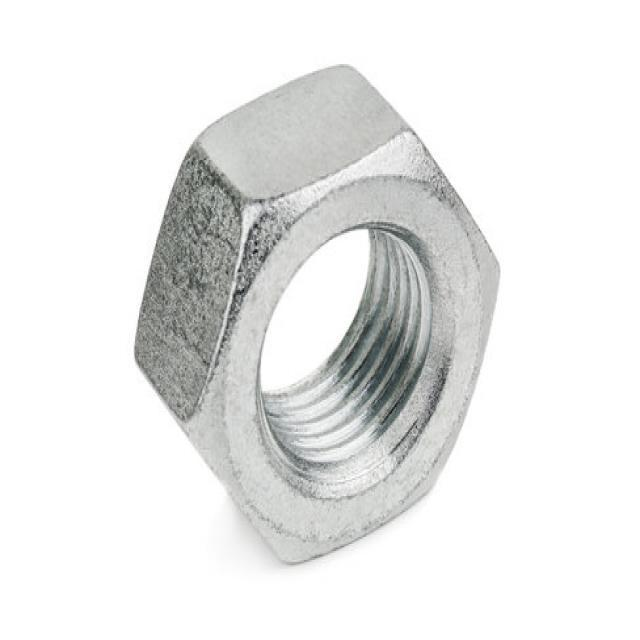nut: (130, 64, 504, 564)
